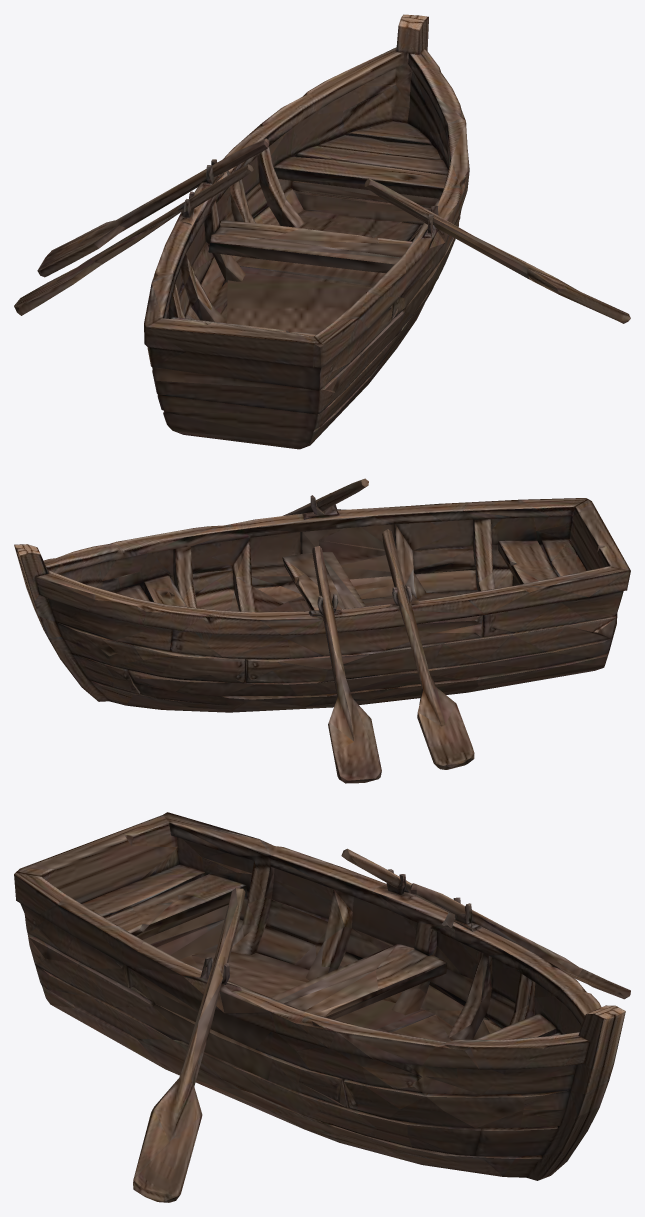
The model's file is boat_3d.glb.
3 views of the same model, one above another, from view 1: azimuth 30°, elevation 25°; view 2: azimuth 150°, elevation 25°; view 3: azimuth 270°, elevation 25° (orthographic). The views are drawn at different scales.
Parts seen in each view (by area): view 1: Mesh_0; view 2: Mesh_0; view 3: Mesh_0.
Part boxes in pixels (bbox=[...]): Mesh_0: bbox=[14, 14, 630, 449]; Mesh_0: bbox=[14, 478, 630, 783]; Mesh_0: bbox=[14, 812, 630, 1202].
Size of the model in its own units: 1.58 by 0.5625 by 1.54.
Materials: 1 (1 with a texture image).
